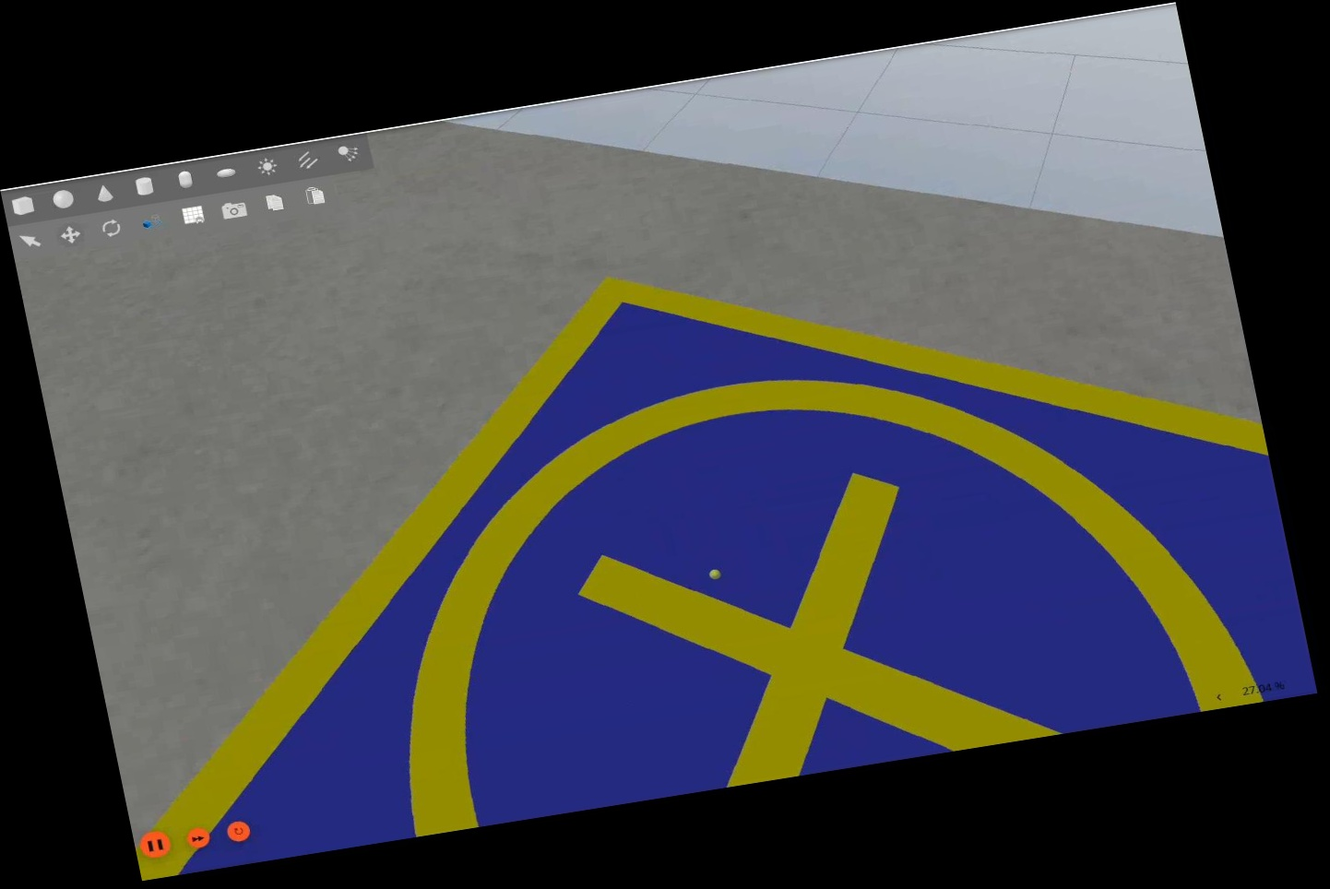small_base: (37, 178, 1319, 881)
